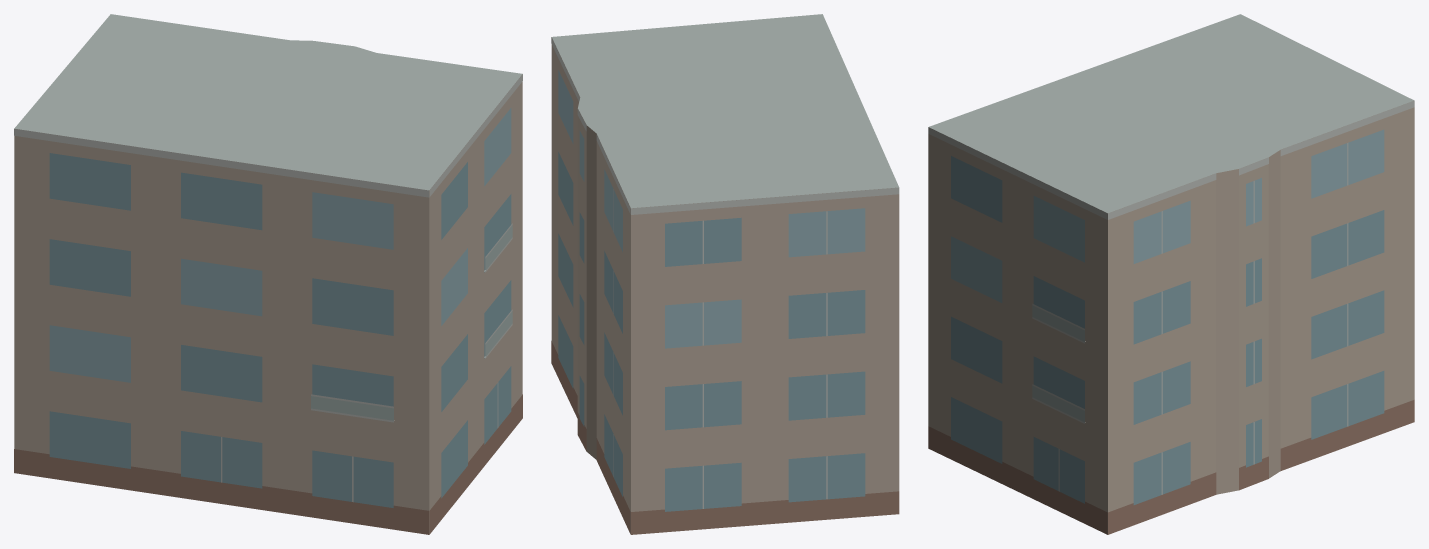
The model's file is survey-upis-32670400.glb.
The picture shows the model from 3 angles, left to right: view 1: azimuth 30°, elevation 25°; view 2: azimuth 150°, elevation 25°; view 3: azimuth 270°, elevation 25°; orthographic projection. The views are drawn at different scales.
Visible parts, largest first — view 1: survey-upis-32670400.tmp; view 2: survey-upis-32670400.tmp; view 3: survey-upis-32670400.tmp.
Boxes of the visible parts, x1,y1,x2,y2 form: survey-upis-32670400.tmp: (14,14,522,534); survey-upis-32670400.tmp: (551,14,899,534); survey-upis-32670400.tmp: (928,14,1414,534).
Bounding box in the file's own units: 15.57 × 11.7 × 16.04.
